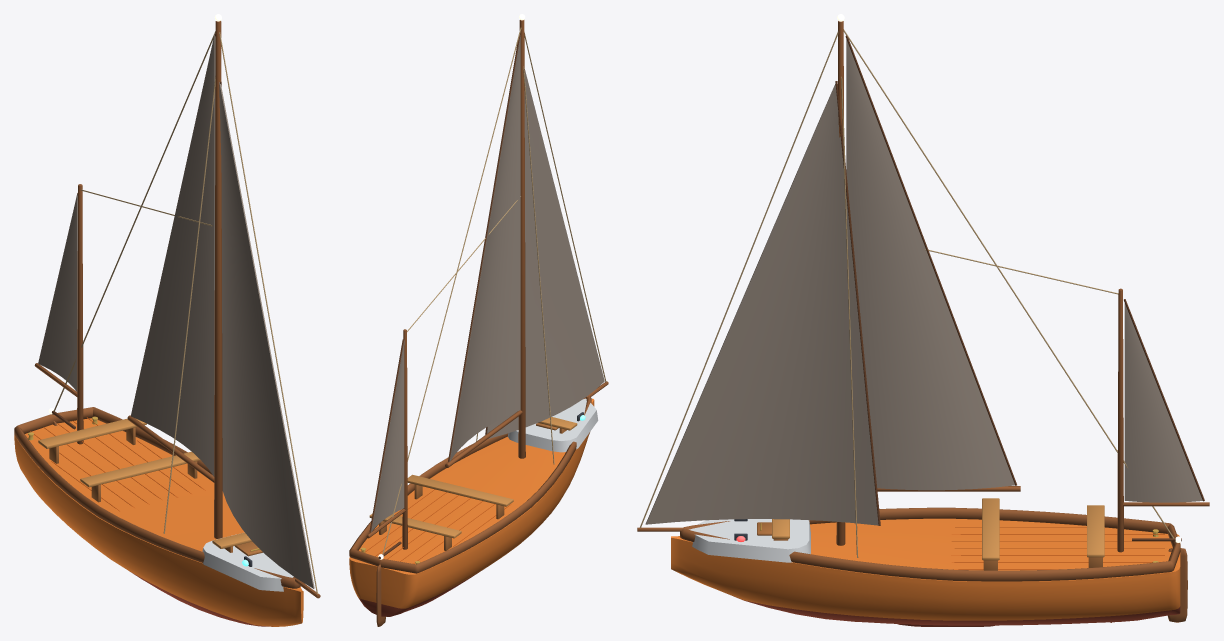
The model's file is veleiro_madeira_laranja.glb.
3 views of the same model, side by side, from view 1: azimuth 30°, elevation 25°; view 2: azimuth 150°, elevation 25°; view 3: azimuth 270°, elevation 25° (orthographic). The views are drawn at different scales.
Visible parts, largest first — view 1: veleiro_madeira_laranja, vela_grande; view 2: veleiro_madeira_laranja, vela_grande; view 3: veleiro_madeira_laranja, vela_grande.
Boxes of the visible parts, x1,y1,x2,y2 form: veleiro_madeira_laranja: [14, 14, 320, 626]; vela_grande: [127, 33, 215, 482]; veleiro_madeira_laranja: [349, 14, 608, 626]; vela_grande: [445, 34, 522, 467]; veleiro_madeira_laranja: [637, 14, 1209, 626]; vela_grande: [845, 35, 1020, 491].
Bounding box in the file's own units: 2.76 × 12.16 × 10.31.
4 materials, 1 textured.
